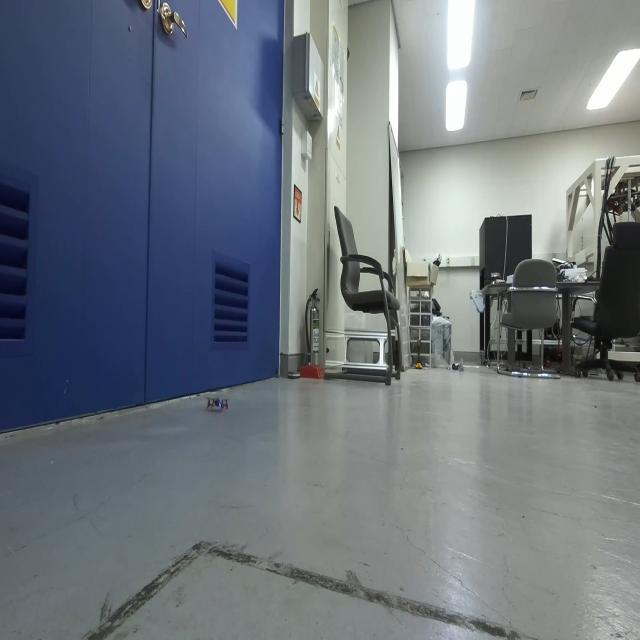crazyflie: (204, 389, 233, 417)
